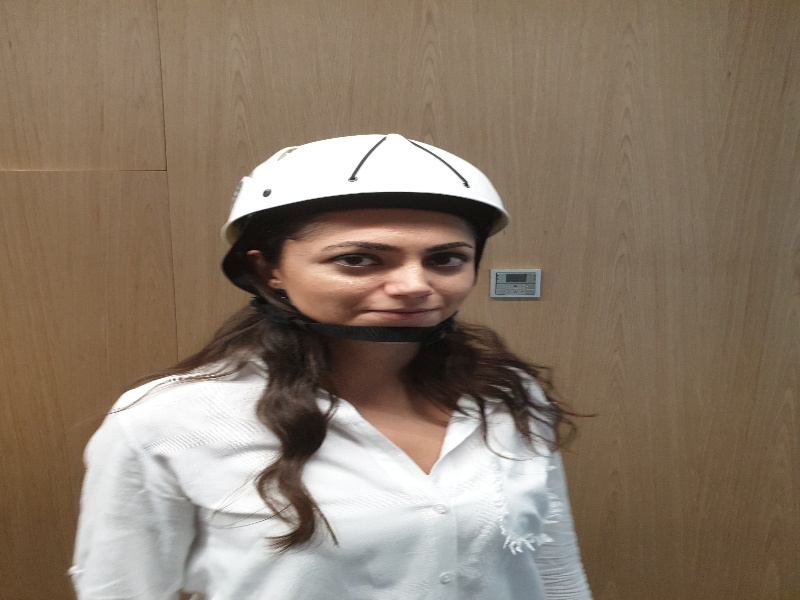Baret: (231, 134, 507, 222)
